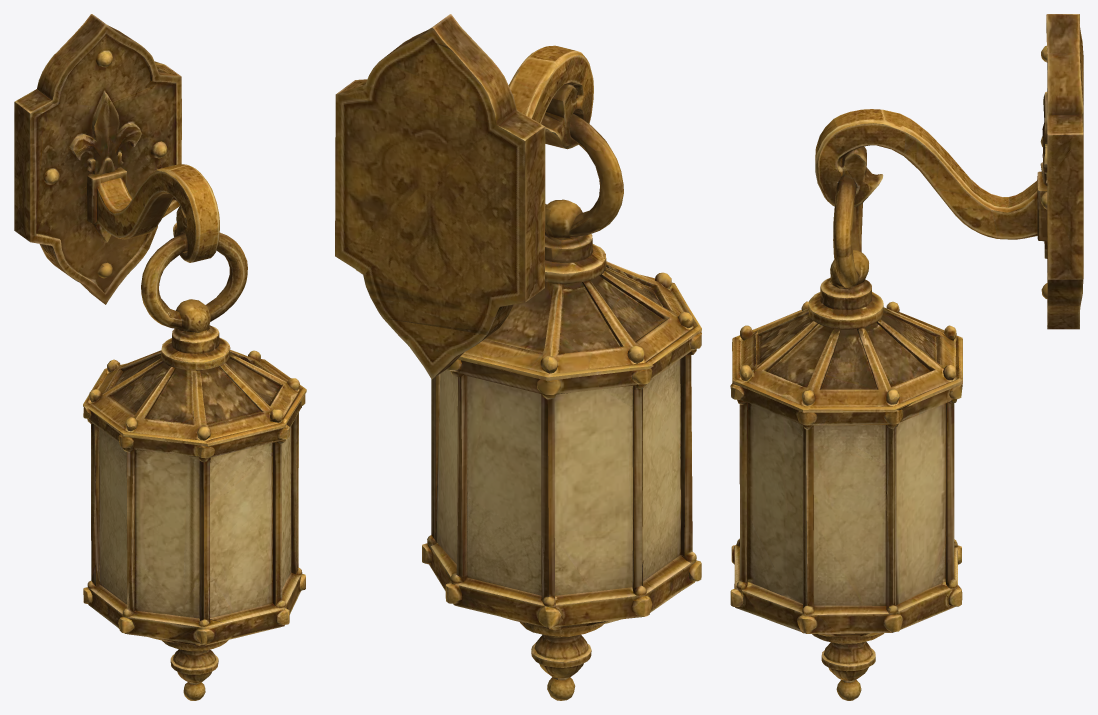
File: wall-sconce.glb
The picture shows the model from 3 angles, left to right: view 1: azimuth 30°, elevation 25°; view 2: azimuth 150°, elevation 25°; view 3: azimuth 270°, elevation 25°; orthographic projection. The views are drawn at different scales.
Visible parts, largest first — view 1: Mesh_0; view 2: Mesh_0; view 3: Mesh_0.
Boxes of the visible parts, <box> form: Mesh_0: <box>14,14,306,700</box>; Mesh_0: <box>335,14,701,700</box>; Mesh_0: <box>730,14,1083,700</box>.
Size of the model in its own units: 0.6012 by 1.9 by 0.8878.
1 material, 1 textured.
